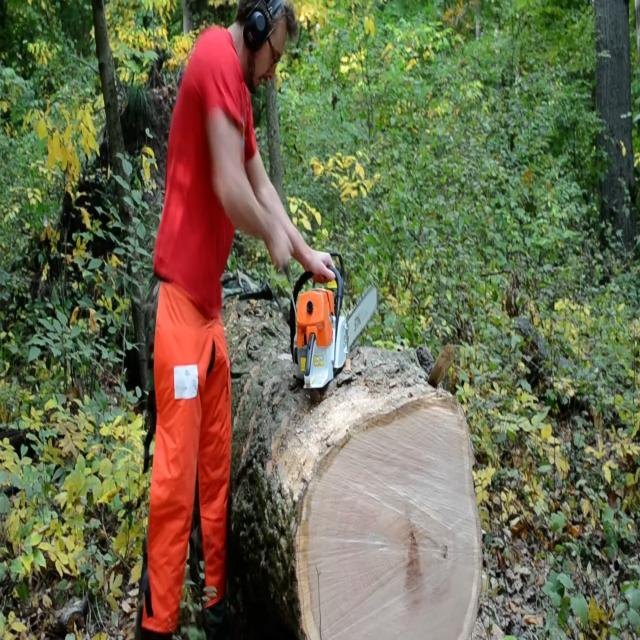Chainsaw: (284, 252, 384, 399)
